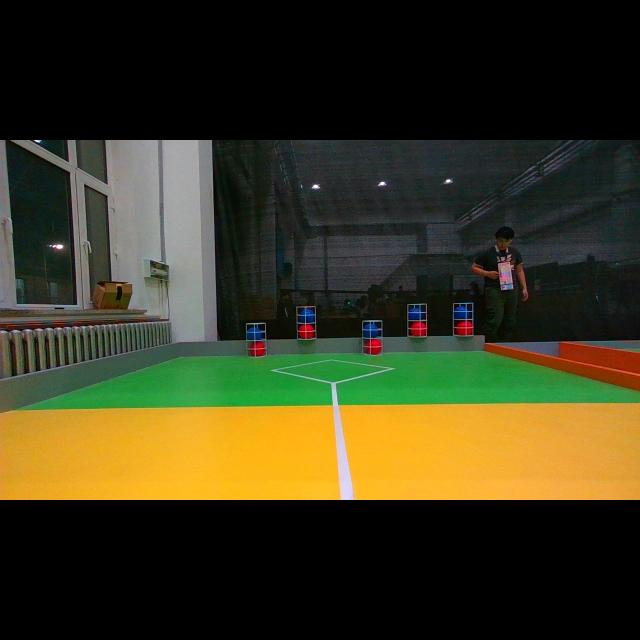B: (451, 304, 469, 320), (363, 324, 379, 340), (300, 308, 316, 324), (248, 328, 264, 342), (408, 310, 424, 322)
R: (362, 339, 382, 355), (250, 340, 266, 356), (298, 324, 314, 338), (410, 322, 426, 336), (458, 322, 472, 336)
S: (358, 321, 386, 355), (450, 302, 476, 336), (244, 323, 268, 357), (294, 306, 318, 339), (405, 304, 429, 336)
